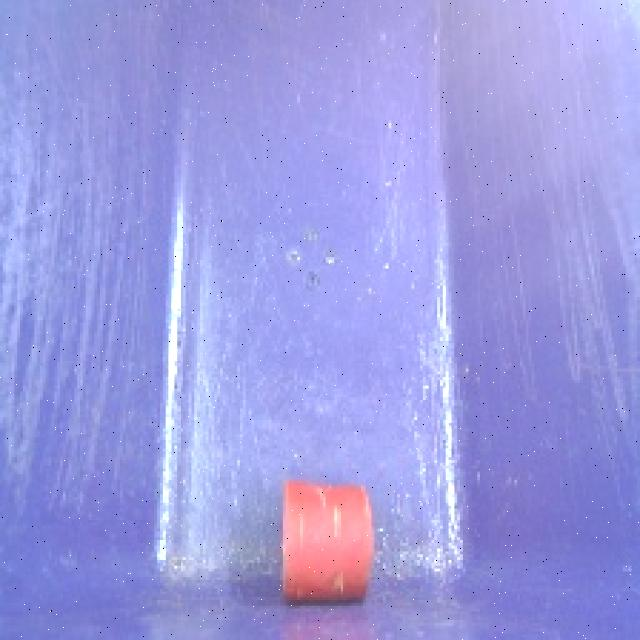carrots: (268, 466, 384, 617)
